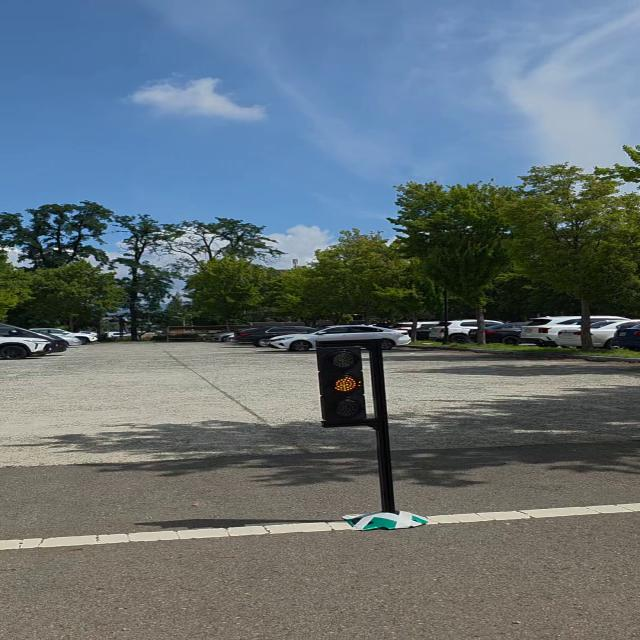yellow: (316, 348, 372, 427)
